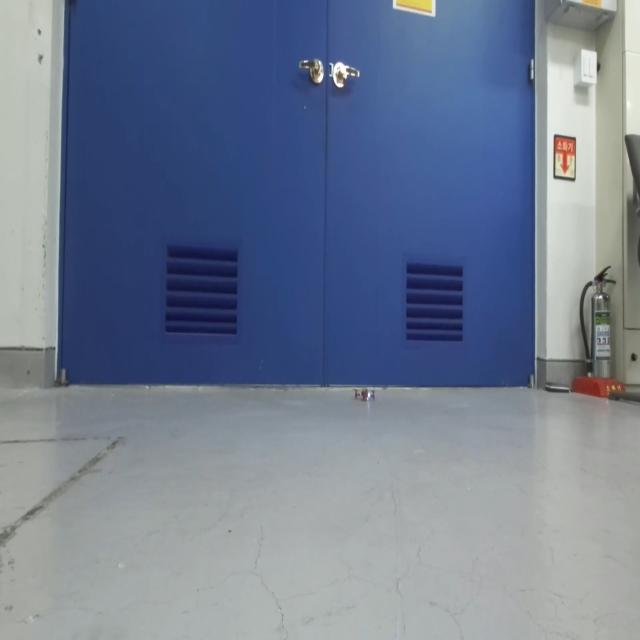crazyflie: (351, 383, 377, 407)
